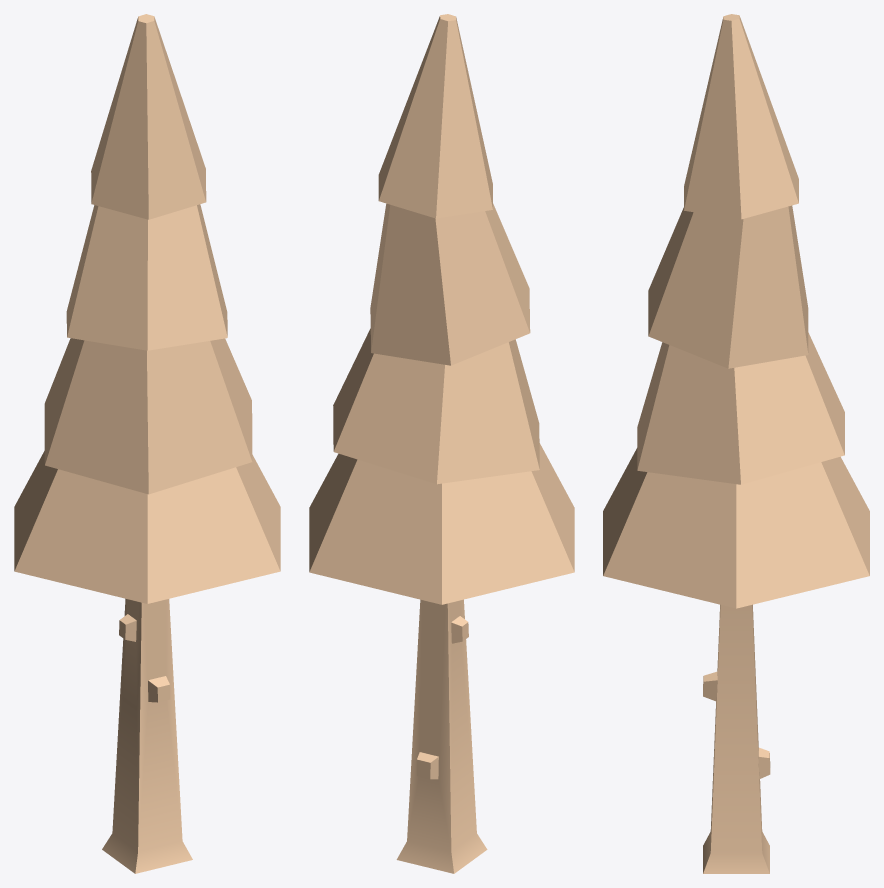
File: tree_pine_short_detailed.fbx
The picture shows the model from 3 angles, left to right: view 1: azimuth 30°, elevation 25°; view 2: azimuth 150°, elevation 25°; view 3: azimuth 270°, elevation 25°; orthographic projection.
Visible parts, largest first — view 1: tree_pine_short_detailed; view 2: tree_pine_short_detailed; view 3: tree_pine_short_detailed.
Boxes of the visible parts, x1,y1,x2,y2 form: tree_pine_short_detailed: (14,14,280,873); tree_pine_short_detailed: (309,14,574,873); tree_pine_short_detailed: (603,14,869,873).
Size of the model in its own units: 166 by 502 by 144.
